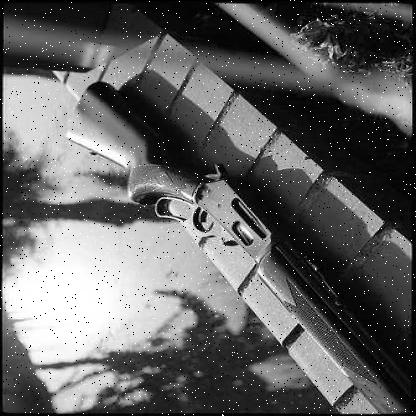rifle: (32, 61, 415, 415)
